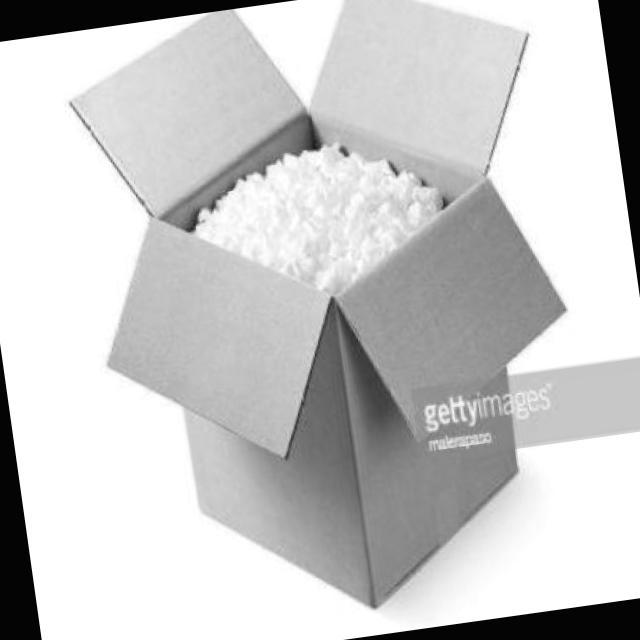box: (44, 0, 620, 640)
